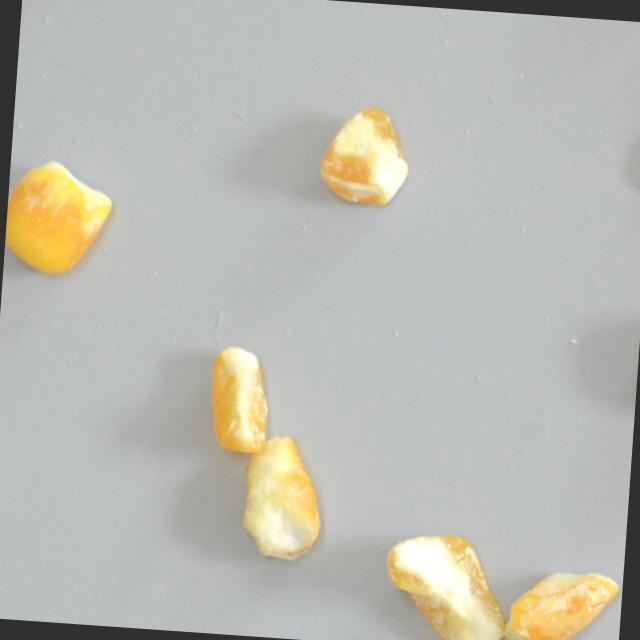pelicula: (376, 520, 513, 640), (3, 156, 115, 278), (234, 429, 328, 565), (315, 103, 412, 209), (501, 562, 621, 640), (206, 341, 274, 454)
